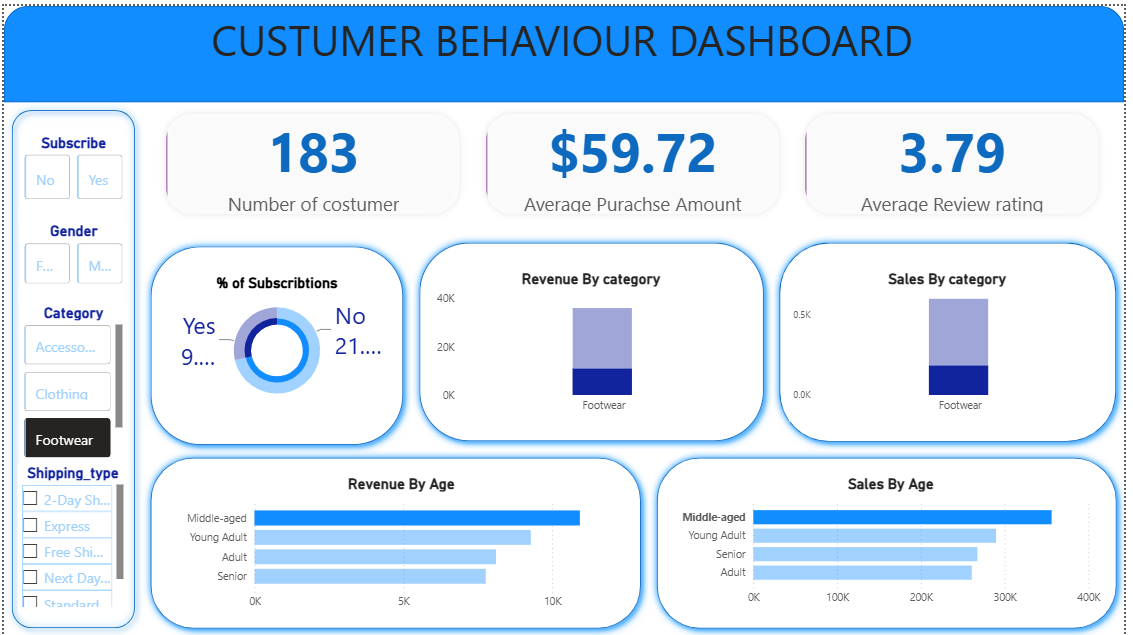

The page's visual inventory and layout, read from the dashboard file:
{"tool":"powerbi","page":{"name":"Page 1","canvas":[1280,720],"ordinal":0},"visuals":[{"type":"cardVisual","fields":{"Data":["customer_behavior customer_shopping_behavior_cleaned.Number of costumer","customer_behavior customer_shopping_behavior_cleaned.Average Purachse Amount","customer_behavior customer_shopping_behavior_cleaned.Average Review rating"]},"box":[157.1,95.7,1122.9,170],"z":0},{"type":"shape","box":[0,0,1280,110],"z":1000},{"type":"textbox","box":[65,0,1065,110],"z":2000},{"type":"shape","box":[158.3,265,306.7,245],"z":3000},{"type":"donutChart","title":"% of Subscribtions","fields":{"Category":["customer_behavior customer_shopping_behavior_cleaned.subscription_status"],"Y":["CountNonNull(customer_behavior customer_shopping_behavior_cleaned.customer_id)"]},"box":[178.6,305.7,267.1,157.1],"z":4000},{"type":"shape","box":[465,261.7,411.7,245],"z":5000},{"type":"shape","box":[877.1,261.4,402.9,245.7],"z":6000},{"type":"clusteredColumnChart","title":"Revenue By category","fields":{"Y":["Sum(customer_behavior customer_shopping_behavior_cleaned.purchase_amount)"],"Category":["customer_behavior customer_shopping_behavior_cleaned.category"]},"box":[490,301.7,361.7,173.3],"z":7000},{"type":"clusteredColumnChart","title":"Sales By category","fields":{"Y":["CountNonNull(customer_behavior customer_shopping_behavior_cleaned.customer_id)"],"Category":["customer_behavior customer_shopping_behavior_cleaned.category"]},"box":[896.7,301.7,361.7,173.3],"z":8000},{"type":"shape","box":[0,110,158.6,610],"z":9000},{"type":"advancedSlicerVisual","title":"Subscribe","fields":{"Values":["customer_behavior customer_shopping_behavior_cleaned.subscription_status"]},"box":[19.2,146.2,122.3,80.8],"z":10000},{"type":"advancedSlicerVisual","title":"Gender","fields":{"Values":["customer_behavior customer_shopping_behavior_cleaned.gender"]},"box":[18.6,247.1,122.9,75.7],"z":11000},{"type":"advancedSlicerVisual","title":"Category","fields":{"Values":["customer_behavior customer_shopping_behavior_cleaned.category"]},"box":[18.9,340,122.2,182.2],"z":12000},{"type":"listSlicer","title":"Shipping_type","fields":{"Values":["customer_behavior customer_shopping_behavior_cleaned.shipping_type"]},"box":[15,522.5,126.2,170],"z":13000},{"type":"shape","box":[158.3,506.7,578.3,213.3],"z":14000},{"type":"shape","box":[736.7,506.7,543.3,213.3],"z":15000},{"type":"clusteredBarChart","title":"Revenue By Age","fields":{"Y":["Sum(customer_behavior customer_shopping_behavior_cleaned.purchase_amount)"],"Category":["customer_behavior customer_shopping_behavior_cleaned.age_group"]},"box":[198.9,535.6,511.1,163.3],"z":16000},{"type":"clusteredBarChart","title":"Sales By Age","fields":{"Y":["Sum(customer_behavior customer_shopping_behavior_cleaned.customer_id)"],"Category":["customer_behavior customer_shopping_behavior_cleaned.age_group"]},"box":[768.3,535,490,158.3],"z":17000}]}

Visuals, with their boxes in screenshot pixels (x1, y1, x2, y2), scaled from the page's 1280x720 canvas onto the 1133x635 screenshot:
cardVisual - customer_behavior customer_shopping_behavior_cleaned.Number of costumer x customer_behavior customer_shopping_behavior_cleaned.Average Purachse Amount: 139 84 1132 234
shape: 0 0 1132 97
textbox: 58 0 1000 97
shape: 140 234 412 450
"% of Subscribtions" donutChart: 158 270 395 408
shape: 412 231 776 447
shape: 776 231 1132 447
"Revenue By category" clusteredColumnChart: 434 266 754 419
"Sales By category" clusteredColumnChart: 794 266 1114 419
shape: 0 97 140 634
"Subscribe" advancedSlicerVisual: 17 129 125 200
"Gender" advancedSlicerVisual: 16 218 125 285
"Category" advancedSlicerVisual: 17 300 125 461
"Shipping_type" listSlicer: 13 461 125 611
shape: 140 447 652 634
shape: 652 447 1132 634
"Revenue By Age" clusteredBarChart: 176 472 628 616
"Sales By Age" clusteredBarChart: 680 472 1114 611
